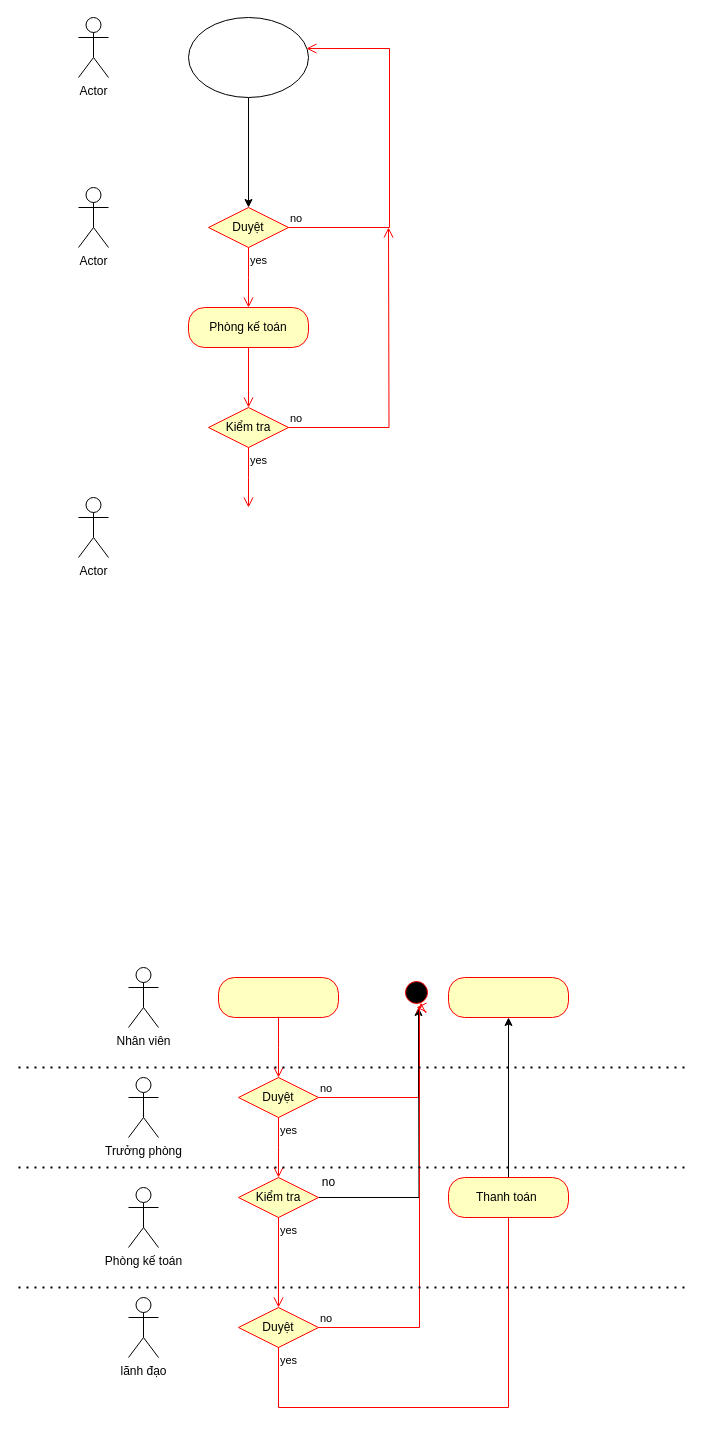
The diagram is 707 pixels wide and 1435 high, and some of its shapes have lost their labels. The shapes that lost their labels are listed below. From the top down, each one's centre as x and y in pixels, then its label:
the point at 248,57: Đề nghị thanh toán công tác phí
the point at 278,997: Đề nghị thanh toán
the point at 508,997: Nhận tiền
